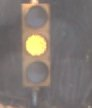Yellow: (15, 1, 57, 95)
